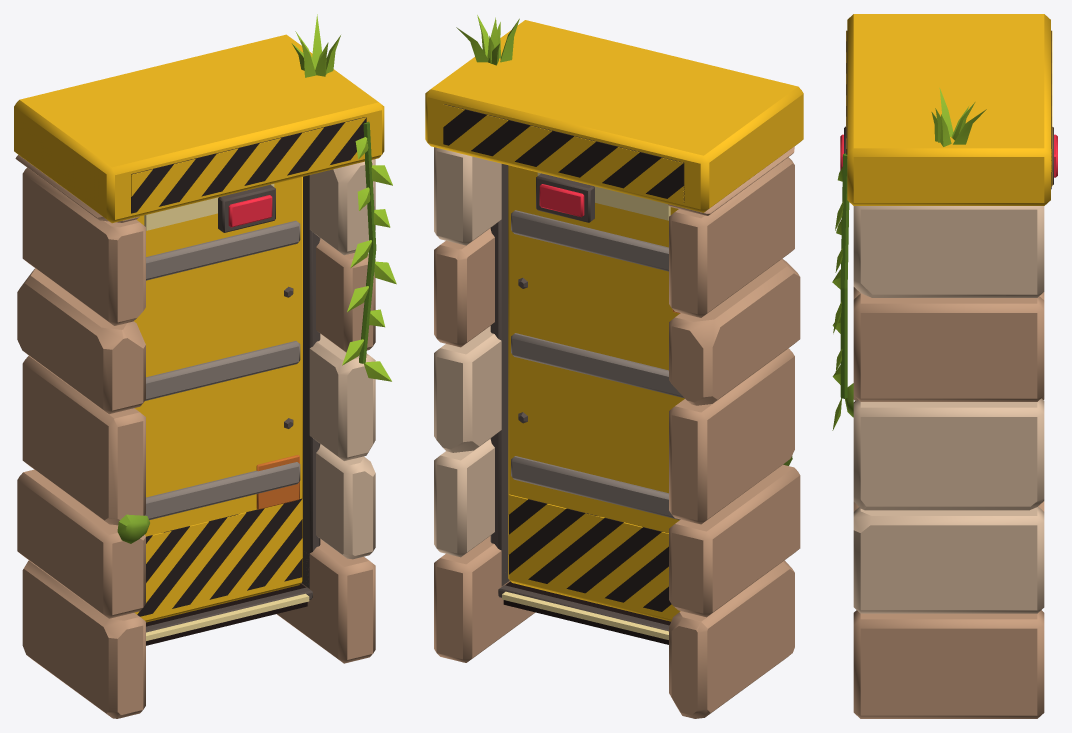
The model's file is door__upper.glb.
3 renders of one model, left to right at view 1: azimuth 30°, elevation 25°; view 2: azimuth 150°, elevation 25°; view 3: azimuth 270°, elevation 25°, orthographic. The views are drawn at different scales.
Visible parts, largest first — view 1: Frame, Panel; view 2: Frame, Panel; view 3: Frame.
Part boxes in pixels (x1,y1,x2,y2): Frame: [14, 14, 396, 718]; Panel: [134, 177, 302, 622]; Frame: [425, 15, 803, 718]; Panel: [508, 165, 684, 621]; Frame: [832, 14, 1057, 718].
Size of the model in its own units: 1.05 by 2.14 by 0.7096.
